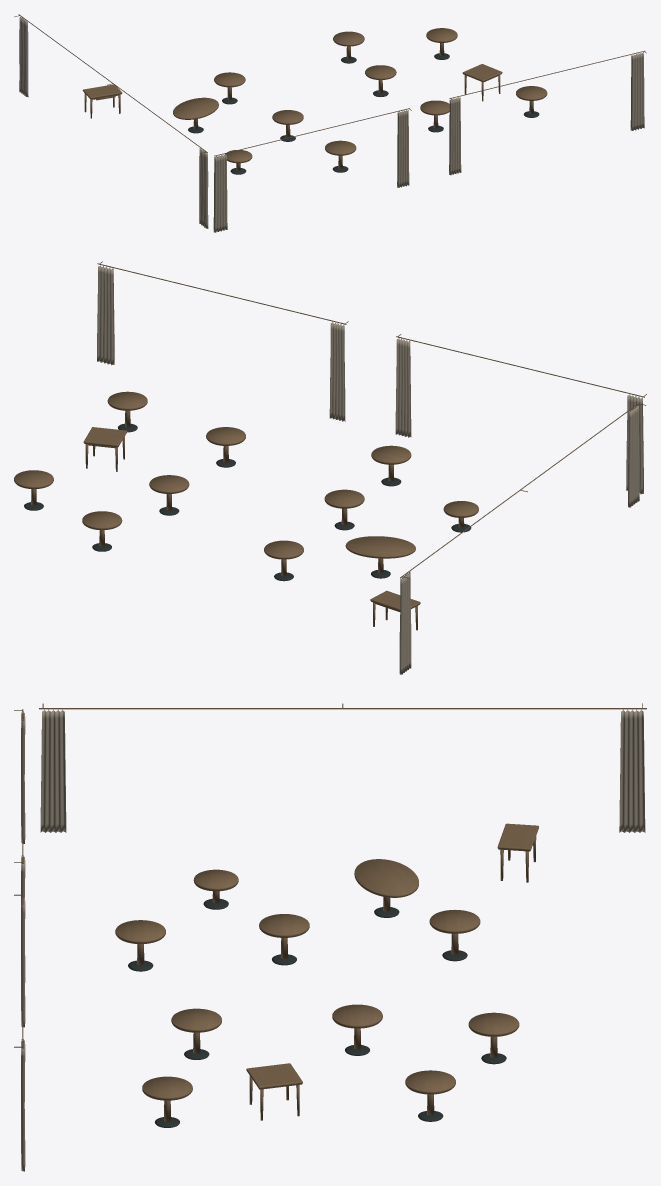
The model's file is atelier_tables_goldenhour.glb.
The picture shows the model from 3 angles, top to bottom: view 1: azimuth 30°, elevation 25°; view 2: azimuth 150°, elevation 25°; view 3: azimuth 270°, elevation 25°; orthographic projection. The views are drawn at different scales.
Parts seen in each view (by area): view 1: atelier_tables_goldenhour / Atelier / honey ash, Front outer linen 1, atelier_tables_goldenhour / Atelier / smoked oak, Front outer linen -1, Front inner linen -1, Front inner linen 1, atelier_tables_goldenhour / Atelier / charcoal powder coat, Side linen 5.94, Side linen -5.94; view 2: atelier_tables_goldenhour / Atelier / honey ash, Front outer linen 1, Front inner linen -1, Front inner linen 1, atelier_tables_goldenhour / Atelier / smoked oak, atelier_tables_goldenhour / Atelier / charcoal powder coat, Side linen 5.94, Side linen -5.94, Front outer linen -1; view 3: atelier_tables_goldenhour / Atelier / honey ash, Side linen 5.94, Side linen -5.94, atelier_tables_goldenhour / Atelier / smoked oak, atelier_tables_goldenhour / Atelier / charcoal powder coat, Side bronze curtain rod.
Part boxes in pixels (box(x1,y1,x2,y2)): atelier_tables_goldenhour / Atelier / honey ash: box(82, 28, 547, 162); Front outer linen 1: box(630, 53, 644, 130); atelier_tables_goldenhour / Atelier / smoked oak: box(84, 43, 533, 170); Front outer linen -1: box(213, 154, 227, 232); Front inner linen -1: box(397, 110, 409, 187); Front inner linen 1: box(449, 97, 461, 175); atelier_tables_goldenhour / Atelier / charcoal powder coat: box(188, 53, 539, 174); Side linen 5.94: box(19, 17, 28, 96); Side linen -5.94: box(199, 148, 208, 228); atelier_tables_goldenhour / Atelier / honey ash: box(14, 391, 478, 610); Front outer linen 1: box(97, 266, 114, 364); Front inner linen -1: box(395, 339, 411, 437); Front inner linen 1: box(329, 322, 345, 421); atelier_tables_goldenhour / Atelier / smoked oak: box(31, 410, 464, 630); atelier_tables_goldenhour / Atelier / charcoal powder coat: box(24, 423, 471, 581); Side linen 5.94: box(399, 572, 411, 674); Side linen -5.94: box(628, 405, 639, 507); Front outer linen -1: box(626, 395, 643, 494); atelier_tables_goldenhour / Atelier / honey ash: box(115, 823, 538, 1099); Side linen 5.94: box(619, 710, 645, 832); Side linen -5.94: box(40, 710, 66, 832); atelier_tables_goldenhour / Atelier / smoked oak: box(137, 836, 536, 1121); atelier_tables_goldenhour / Atelier / charcoal powder coat: box(128, 898, 506, 1127); Side bronze curtain rod: box(39, 708, 646, 709).
Size of the model in its own units: 16.72 by 2.93 by 12.99.
Materials: 5 (2 with a texture image).
